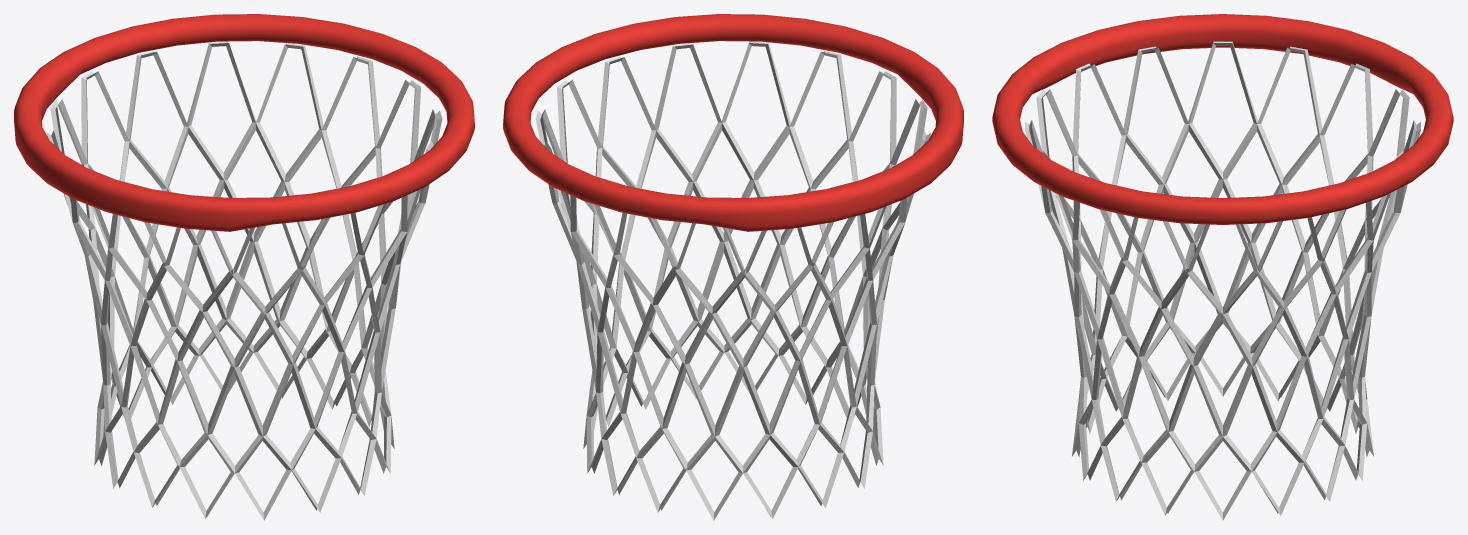
Rendered from basketball net.fbx.
3 renders of one model, left to right at view 1: azimuth 30°, elevation 25°; view 2: azimuth 150°, elevation 25°; view 3: azimuth 270°, elevation 25°, orthographic.
Visible parts, largest first — view 1: Cylinder.002, Cylinder.004; view 2: Cylinder.002, Cylinder.004; view 3: Cylinder.002, Cylinder.004.
Boxes of the visible parts, x1=… form: Cylinder.002: x1=46, y1=41, x2=442, y2=520; Cylinder.004: x1=14, y1=14, x2=474, y2=231; Cylinder.002: x1=535, y1=41, x2=931, y2=520; Cylinder.004: x1=503, y1=14, x2=963, y2=231; Cylinder.002: x1=1025, y1=41, x2=1420, y2=520; Cylinder.004: x1=992, y1=14, x2=1453, y2=224.
Size of the model in its own units: 25 by 20.91 by 25.
